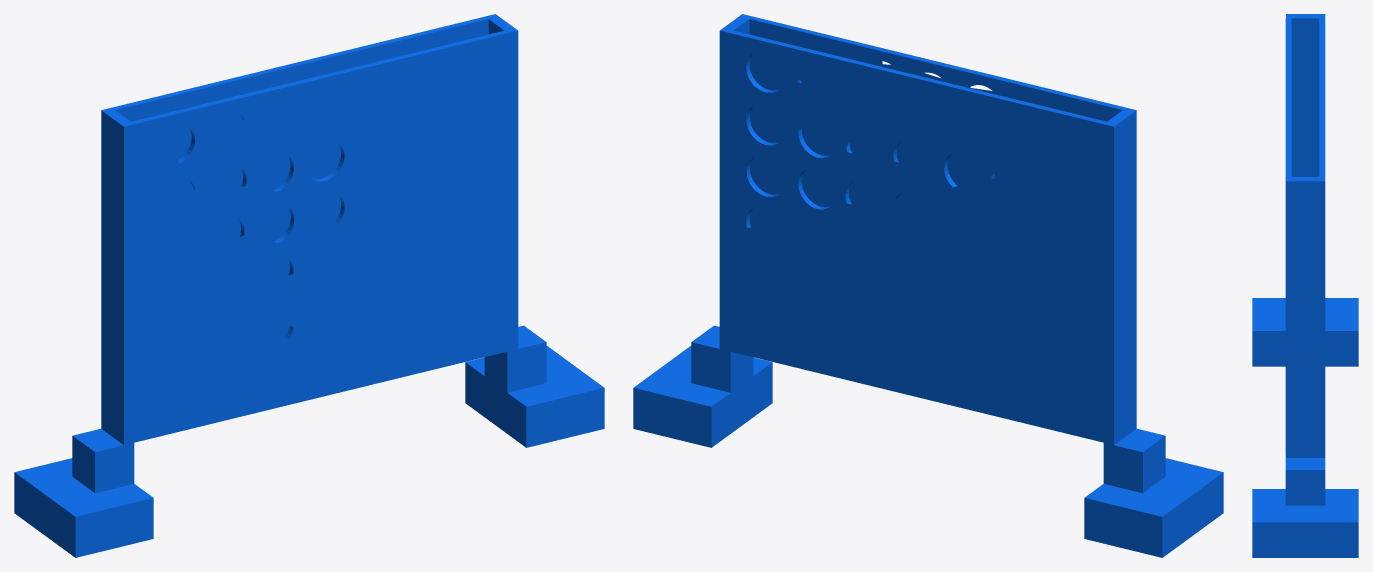
The model's file is Connect4Big.fbx.
The picture shows the model from 3 angles, left to right: view 1: azimuth 30°, elevation 25°; view 2: azimuth 150°, elevation 25°; view 3: azimuth 270°, elevation 25°; orthographic projection. The views are drawn at different scales.
Visible parts, largest first — view 1: Cube.002, Cube.003, Cube.006, Cube.007, Cube.001, Cube.005, Cube, Cube.004; view 2: Cube.001, Cube.002, Cube.003, Cube.006, Cube.007, Cube.005, Cube, Cube.004; view 3: Cube.005, Cube.007, Cube.003, Cube.006, Cube.004, Cube.002, Cube.001.
Part boxes in pixels (left/top/right/bottom): Cube.002: left=131, top=30, right=507, bottom=442; Cube.003: left=101, top=107, right=134, bottom=444; Cube.006: left=14, top=458, right=153, bottom=557; Cube.007: left=465, top=346, right=604, bottom=447; Cube.001: left=112, top=16, right=488, bottom=121; Cube.005: left=485, top=14, right=518, bottom=351; Cube: left=72, top=428, right=134, bottom=493; Cube.004: left=484, top=325, right=546, bottom=392; Cube.001: left=730, top=30, right=1106, bottom=442; Cube.002: left=749, top=16, right=1125, bottom=226; Cube.003: left=1103, top=107, right=1136, bottom=444; Cube.006: left=1084, top=458, right=1223, bottom=557; Cube.007: left=633, top=346, right=772, bottom=447; Cube.005: left=719, top=14, right=752, bottom=351; Cube: left=1103, top=428, right=1165, bottom=493; Cube.004: left=691, top=325, right=753, bottom=392; Cube.005: left=1286, top=177, right=1325, bottom=457; Cube.007: left=1252, top=489, right=1358, bottom=557; Cube.003: left=1286, top=14, right=1325, bottom=176; Cube.006: left=1252, top=298, right=1358, bottom=366; Cube.004: left=1285, top=454, right=1325, bottom=505; Cube.002: left=1285, top=18, right=1291, bottom=453; Cube.001: left=1319, top=18, right=1325, bottom=176.
Bounding box in the file's own units: 2694 × 1950 × 539.
